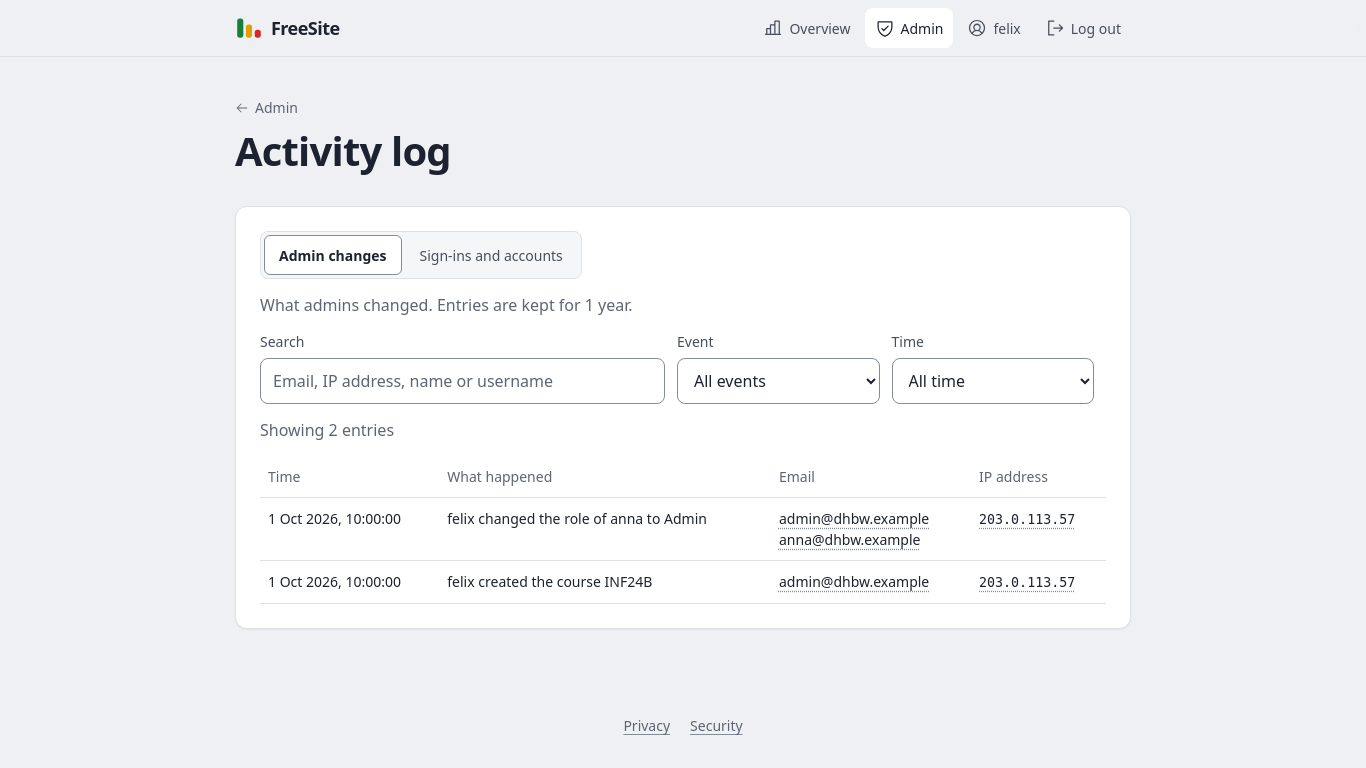
ActivityPage › filters by event and time, and clears all filters again
Expected: the column heading "felix created the course INF24B" is shown, [439,560,771,603]
Expected: the button "Clear filters" is not shown
Select "Course created" in the dropdown labelled "Event" at [778, 381], box [677,358,880,404]
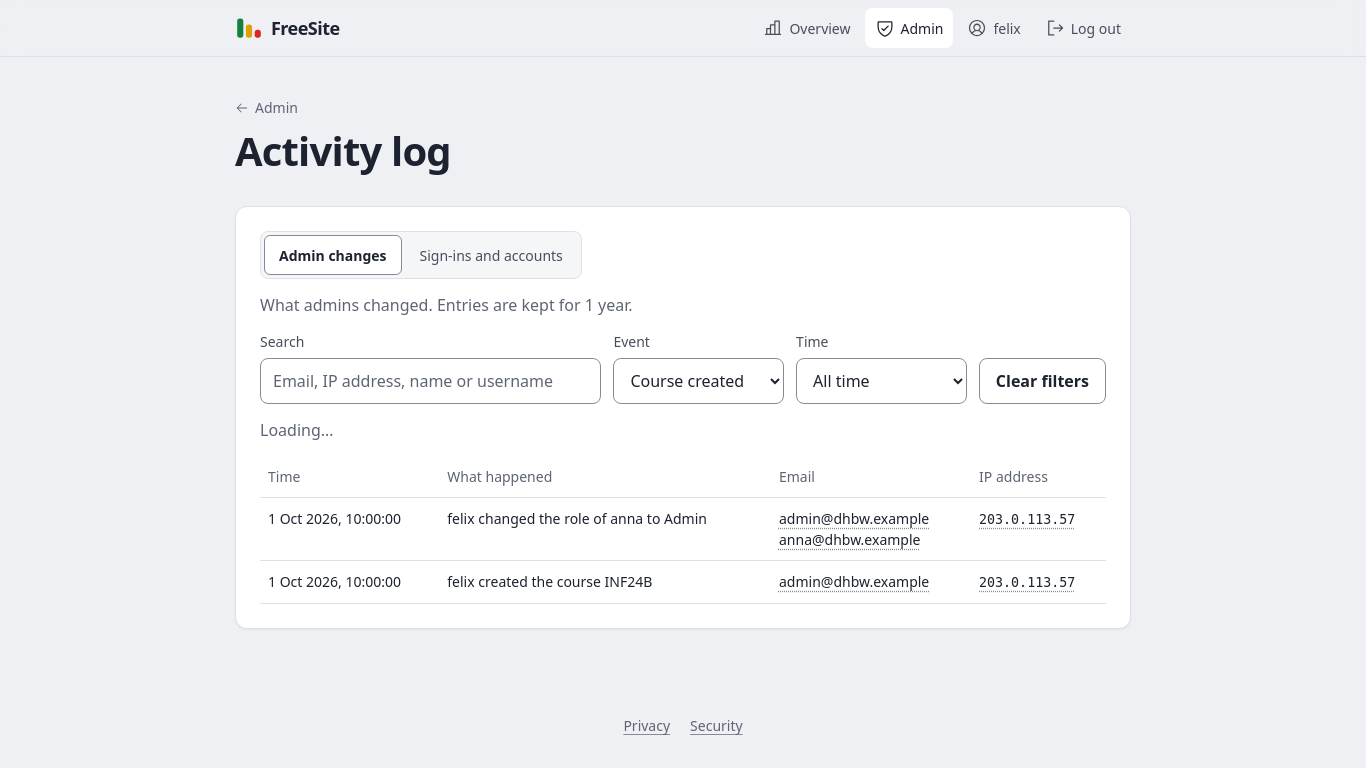
Select "Last 7 days" in the dropdown labelled "Time" at [881, 381], box [796,358,967,404]
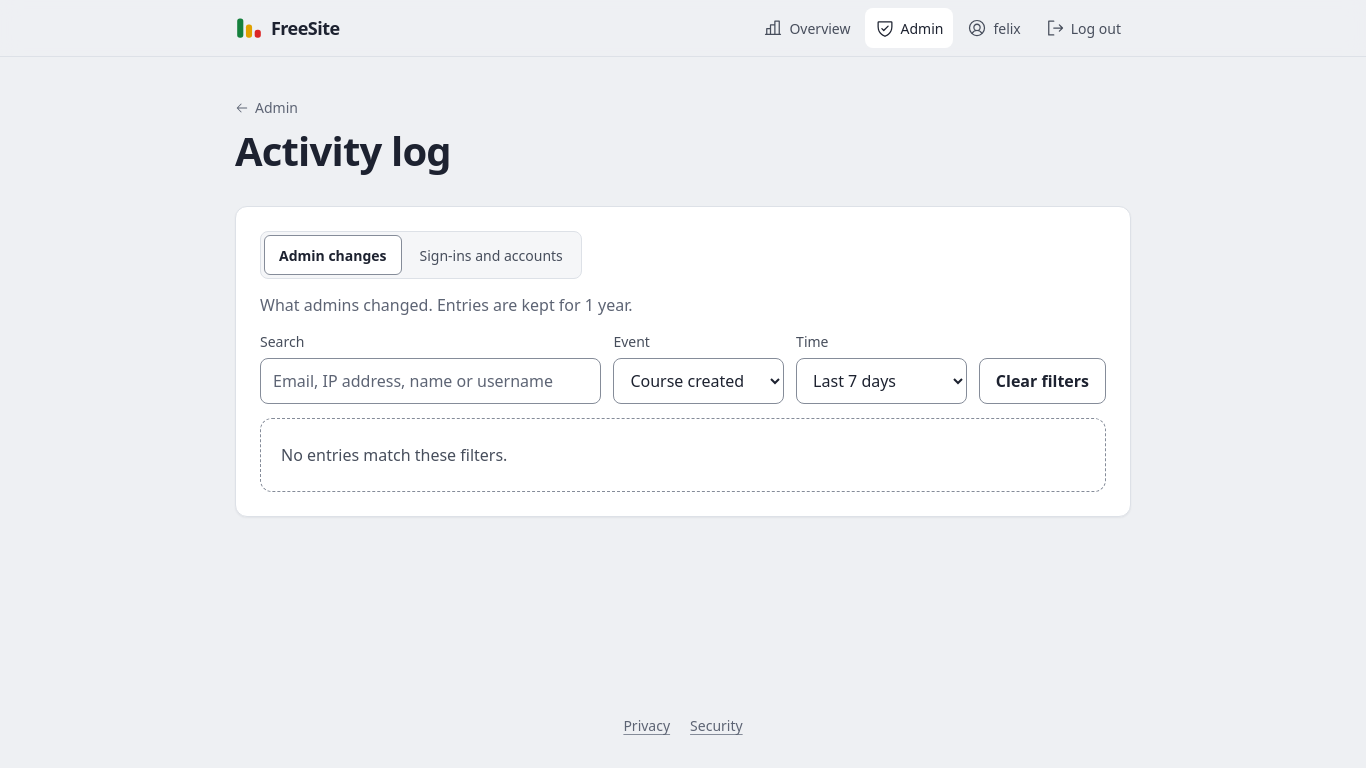
Expected: the text "No entries match these filters." is shown, [260,418,1106,492]
Click the button "Clear filters".
click(1042, 381)  # box [979,358,1106,404]
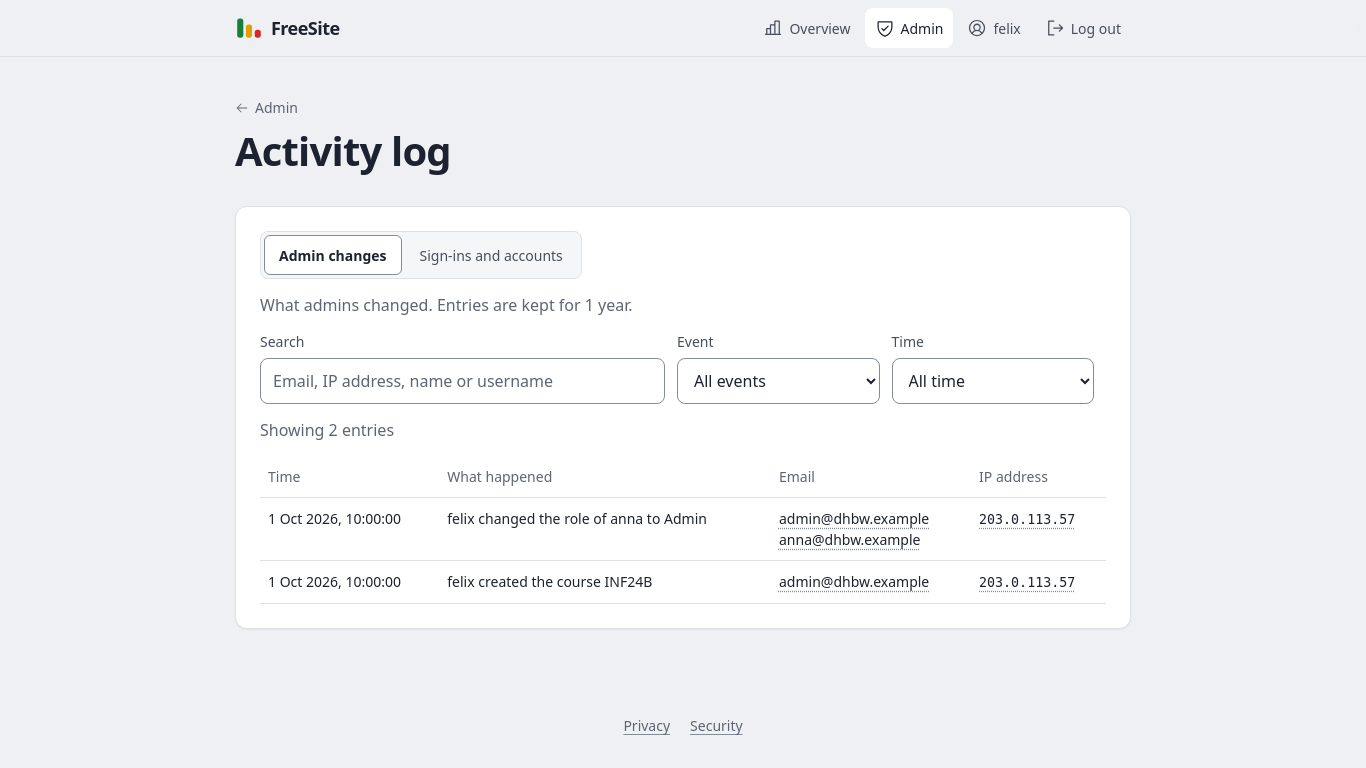
Expected: the column heading "felix created the course INF24B" is shown, [439,560,771,603]
Expected: the text "No entries match these filters." is gone
